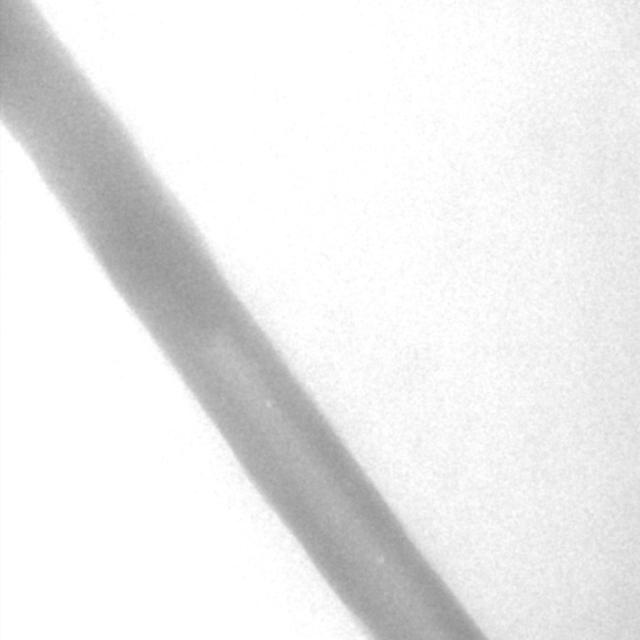air hole: (375, 553, 386, 566), (264, 396, 273, 410)
